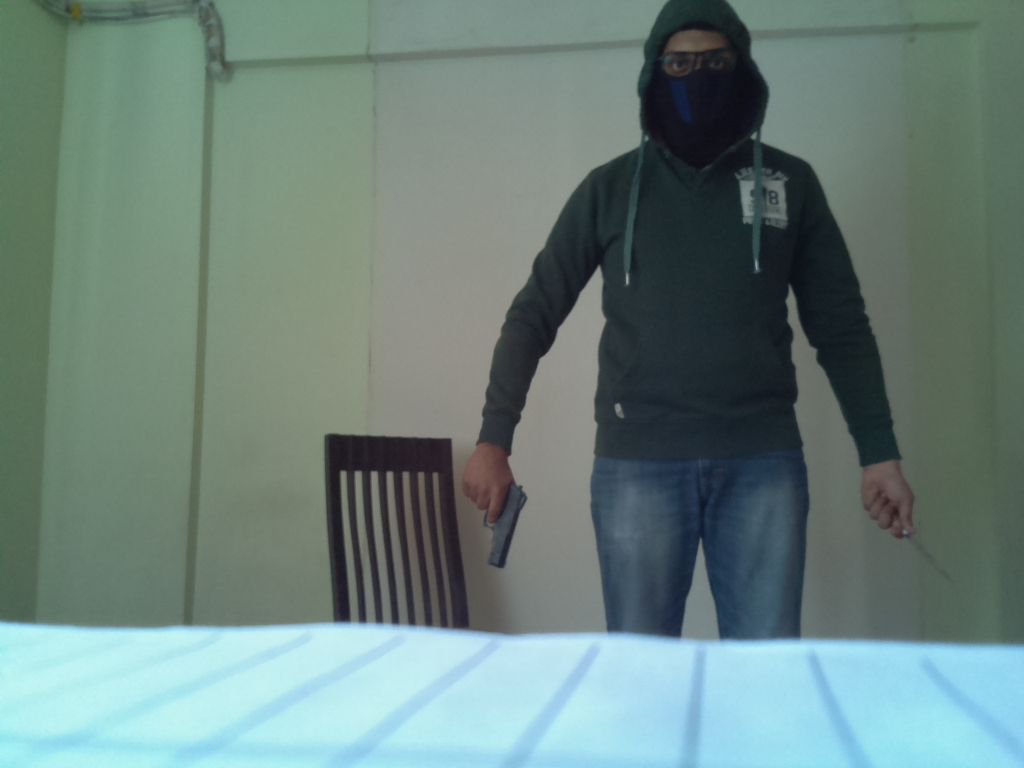gun: (477, 476, 531, 574)
